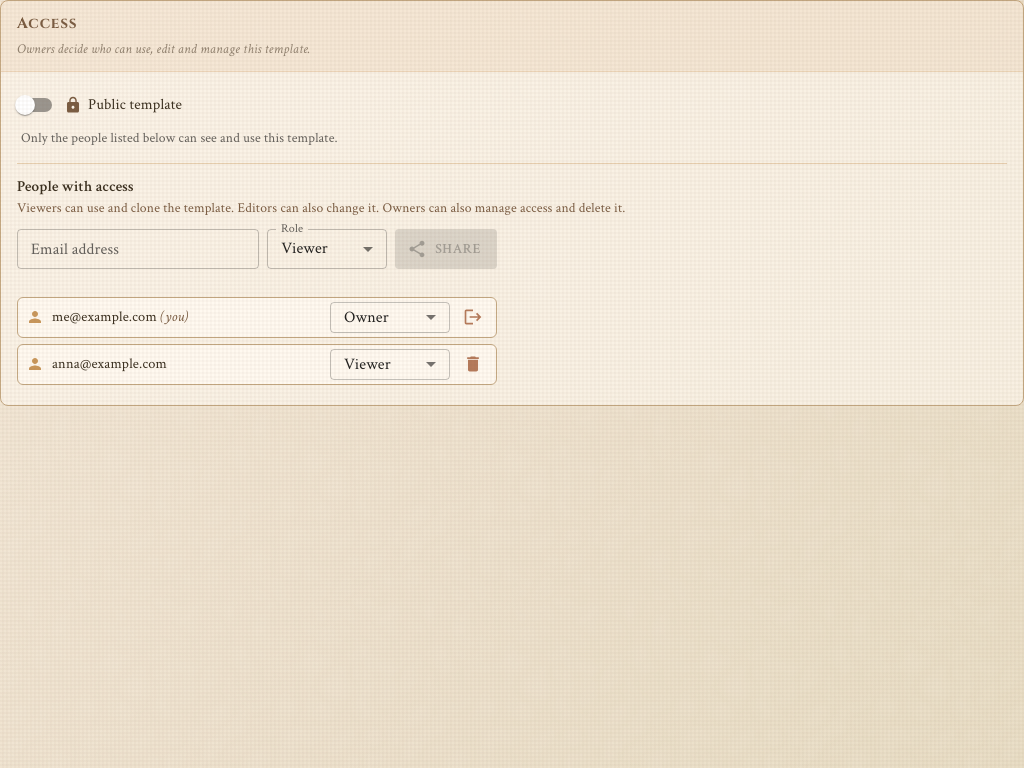
Test case: removing another member deletes them
Click the button named "Remove access" at point(473, 364), box 458,349 -> 488,379
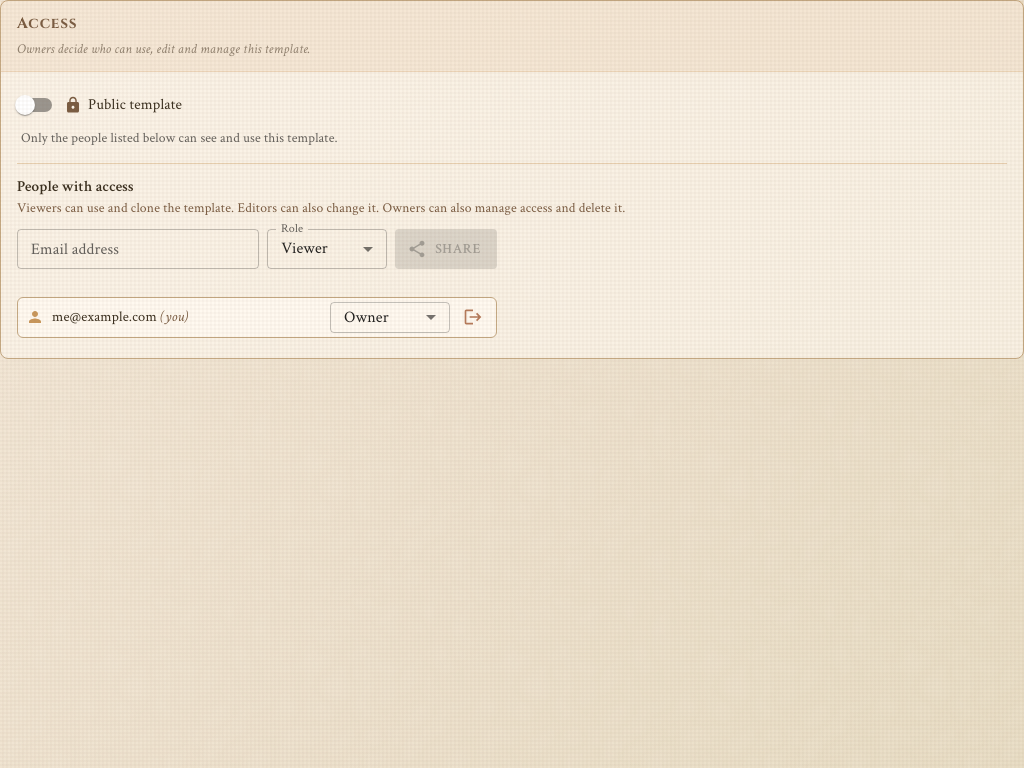
Now the text "anna@example.com" is gone
